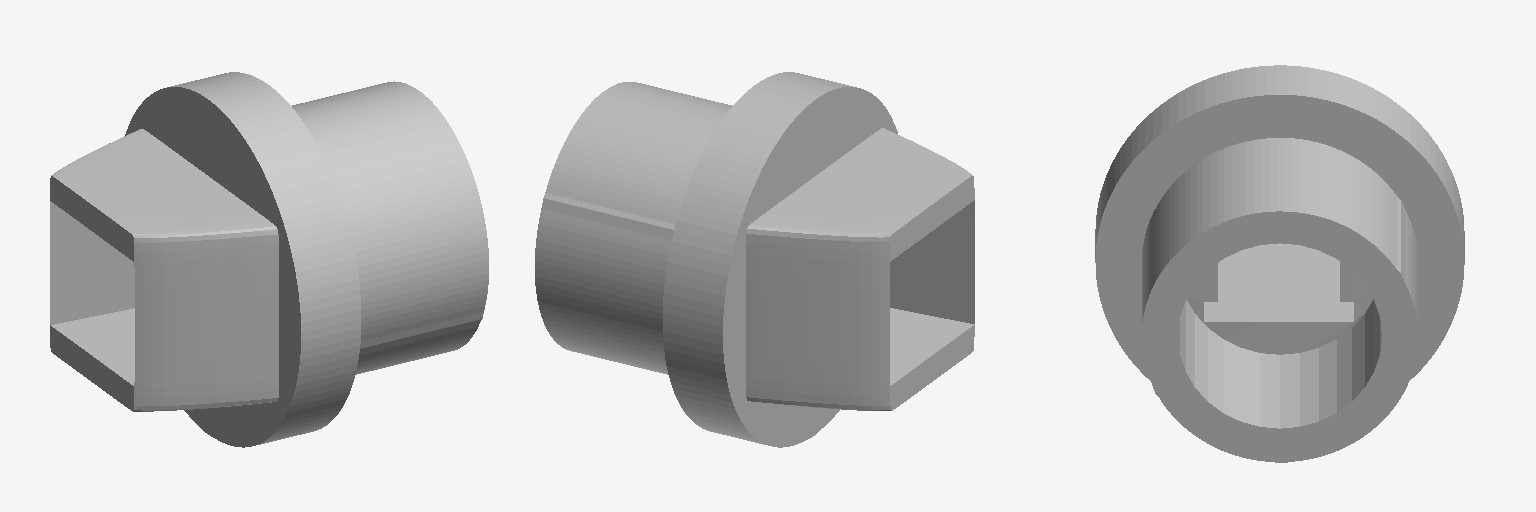
The model's file is shoulder.obj.
3 views of the same model, side by side, from view 1: azimuth 30°, elevation 25°; view 2: azimuth 150°, elevation 25°; view 3: azimuth 270°, elevation 25° (orthographic).
Parts seen in each view (by area): view 1: shoulder; view 2: shoulder; view 3: shoulder.
Boxes of the visible parts, x1,y1,x2,y2 form: shoulder: [50, 72, 488, 447]; shoulder: [535, 72, 974, 447]; shoulder: [1095, 65, 1464, 462].
Size of the model in its own units: 14.42 by 14.07 by 14.04.